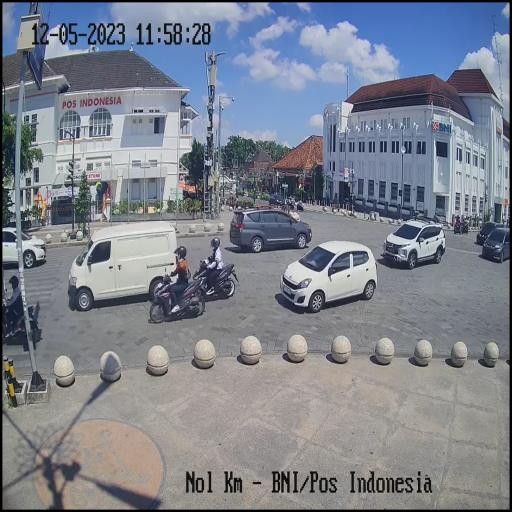mobil: (68, 219, 179, 312), (280, 238, 379, 316), (230, 207, 313, 253), (383, 218, 445, 272), (2, 226, 47, 272), (483, 228, 511, 263)
motor: (150, 267, 206, 324), (0, 281, 39, 345), (194, 257, 238, 302)
